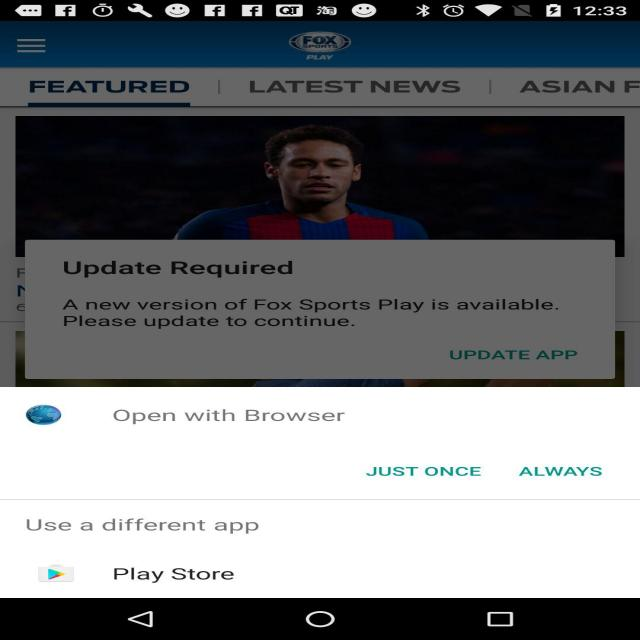button: (347, 449, 623, 500), (112, 560, 272, 588)
image: (9, 114, 640, 236)
text: (110, 406, 382, 436)
